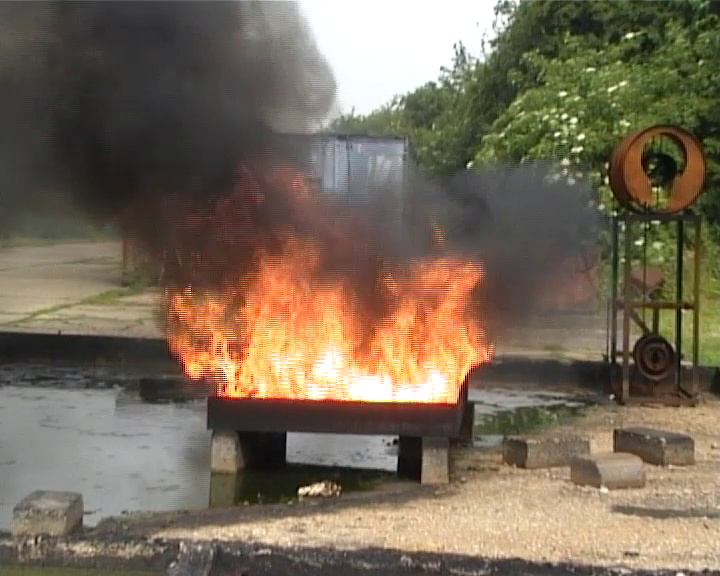fire: (170, 257, 487, 403)
